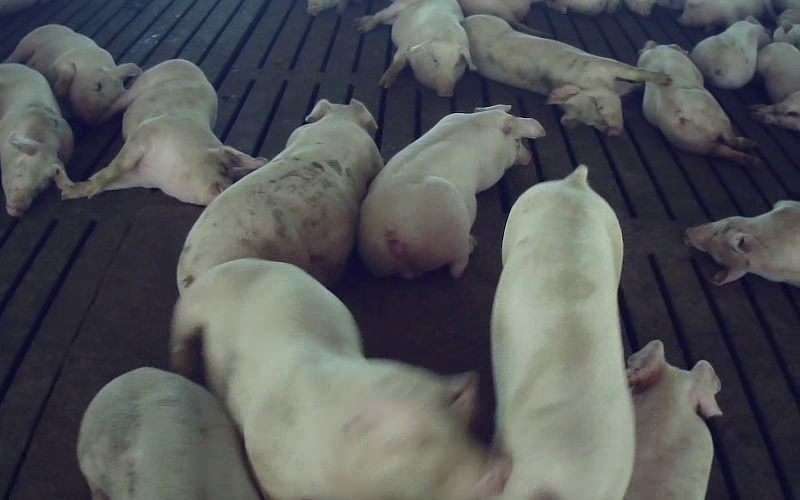pig: (172, 259, 507, 499), (491, 165, 633, 499), (177, 100, 382, 289), (358, 105, 543, 277), (63, 59, 265, 205), (463, 15, 669, 135), (77, 368, 258, 499), (625, 340, 721, 499), (638, 41, 759, 164), (7, 24, 140, 124), (356, 0, 474, 96), (685, 200, 799, 286), (690, 16, 770, 88), (751, 42, 799, 131)
